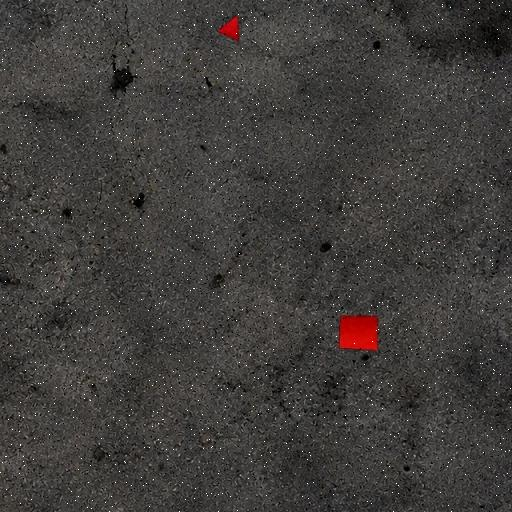RED_SQUARE: (338, 315, 378, 351)
